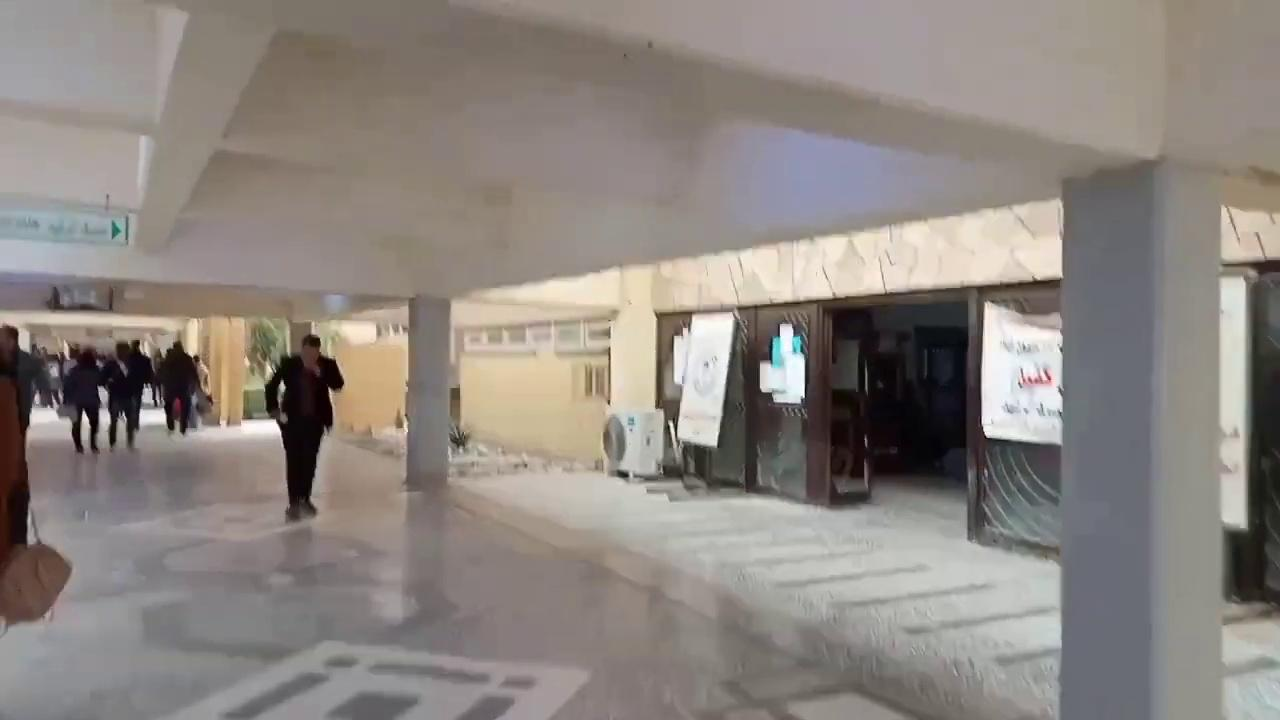person: (264, 333, 344, 515), (0, 323, 30, 575), (104, 338, 151, 456), (59, 349, 106, 461), (162, 343, 216, 436)
tree: (244, 316, 282, 382)
